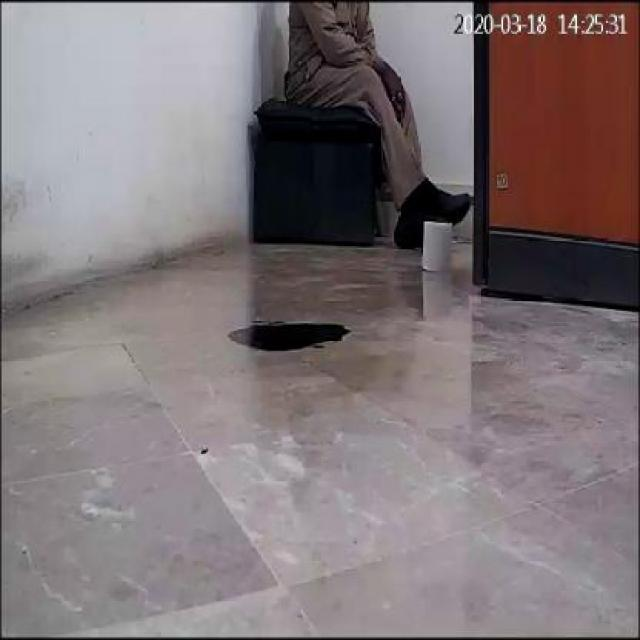spill: (229, 314, 346, 348)
